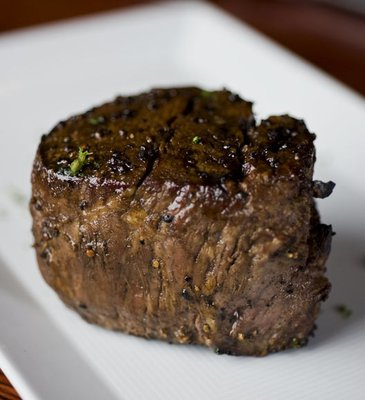sushi: (23, 87, 337, 356)
